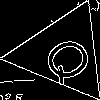Q: (37, 28, 100, 88)
